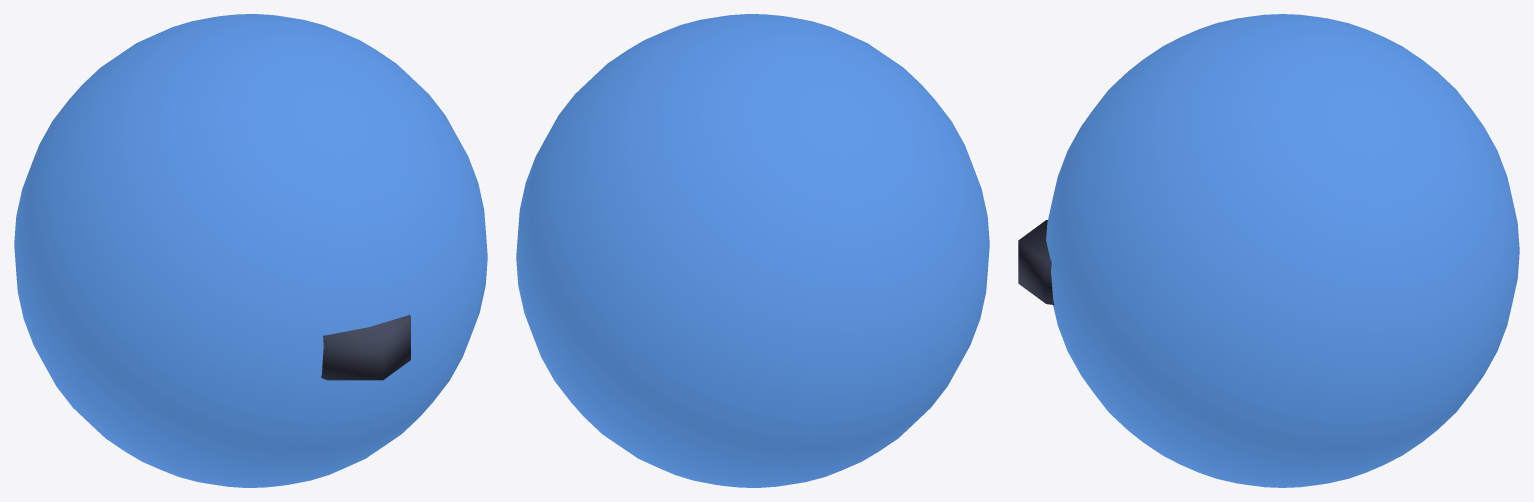
File: orpheus_bridge.glb
3 views of the same model, side by side, from view 1: azimuth 30°, elevation 25°; view 2: azimuth 150°, elevation 25°; view 3: azimuth 270°, elevation 25° (orthographic).
Visible parts, largest first — view 1: CQ_Env_DeepSpace_Backdrop, CQ_Env_Bridge_Bulkheads; view 2: CQ_Env_DeepSpace_Backdrop; view 3: CQ_Env_DeepSpace_Backdrop, CQ_Env_Bridge_Bulkheads.
Boxes of the visible parts, x1,y1,x2,y2 form: CQ_Env_DeepSpace_Backdrop: (14,14,487,487); CQ_Env_Bridge_Bulkheads: (321,314,410,380); CQ_Env_DeepSpace_Backdrop: (516,14,989,487); CQ_Env_DeepSpace_Backdrop: (1046,14,1519,487); CQ_Env_Bridge_Bulkheads: (1018,220,1054,304).
Bounding box in the file's own units: 70 × 70 × 74.
